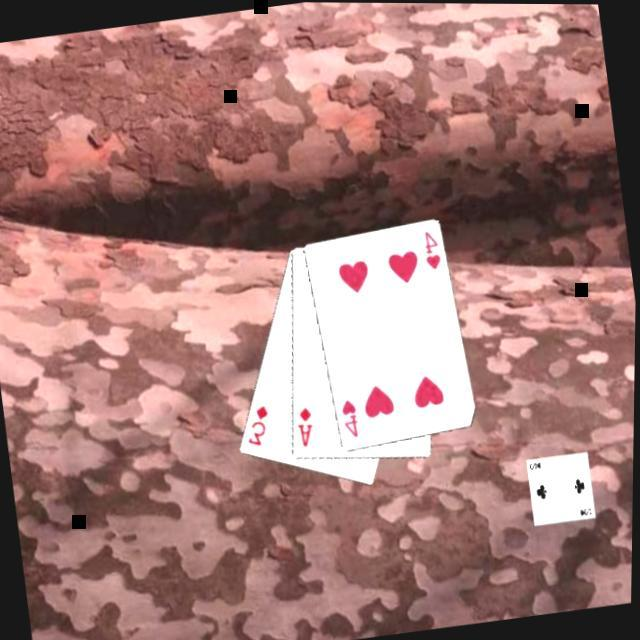3D: (243, 401, 279, 451)
4H: (421, 227, 448, 274), (340, 396, 367, 442)
AD: (295, 404, 322, 451)
